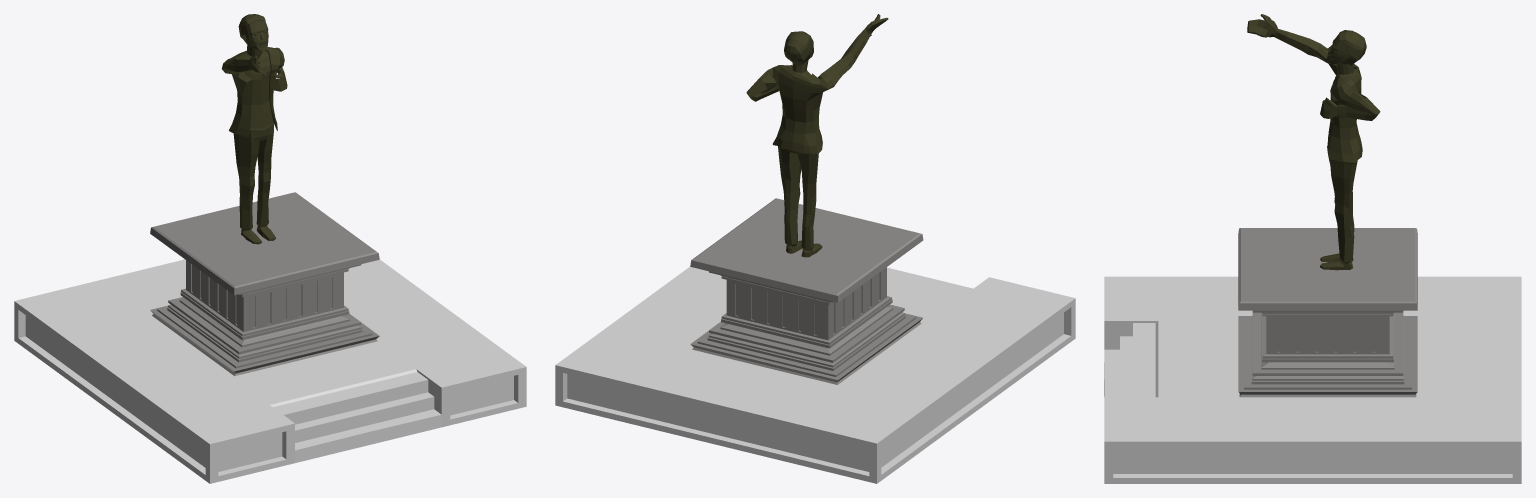
The model's file is monument.fbx.
3 renders of one model, left to right at view 1: azimuth 30°, elevation 25°; view 2: azimuth 150°, elevation 25°; view 3: azimuth 270°, elevation 25°, orthographic. The views are drawn at different scales.
Parts seen in each view (by area): view 1: Bank, Pedestal, BaseHuman; view 2: Bank, Pedestal, BaseHuman; view 3: Bank, Pedestal, BaseHuman.
Part boxes in pixels (x1=…): Bank: x1=14, y1=259, x2=526, y2=483; Pedestal: x1=150, y1=192, x2=379, y2=376; BaseHuman: x1=222, y1=14, x2=287, y2=244; Bank: x1=555, y1=266, x2=1075, y2=483; Pedestal: x1=690, y1=198, x2=923, y2=384; BaseHuman: x1=746, y1=14, x2=888, y2=257; Bank: x1=1104, y1=276, x2=1521, y2=483; Pedestal: x1=1238, y1=228, x2=1417, y2=397; BaseHuman: x1=1247, y1=14, x2=1380, y2=270.
Bounding box in the file's own units: 393 × 410 × 420.
